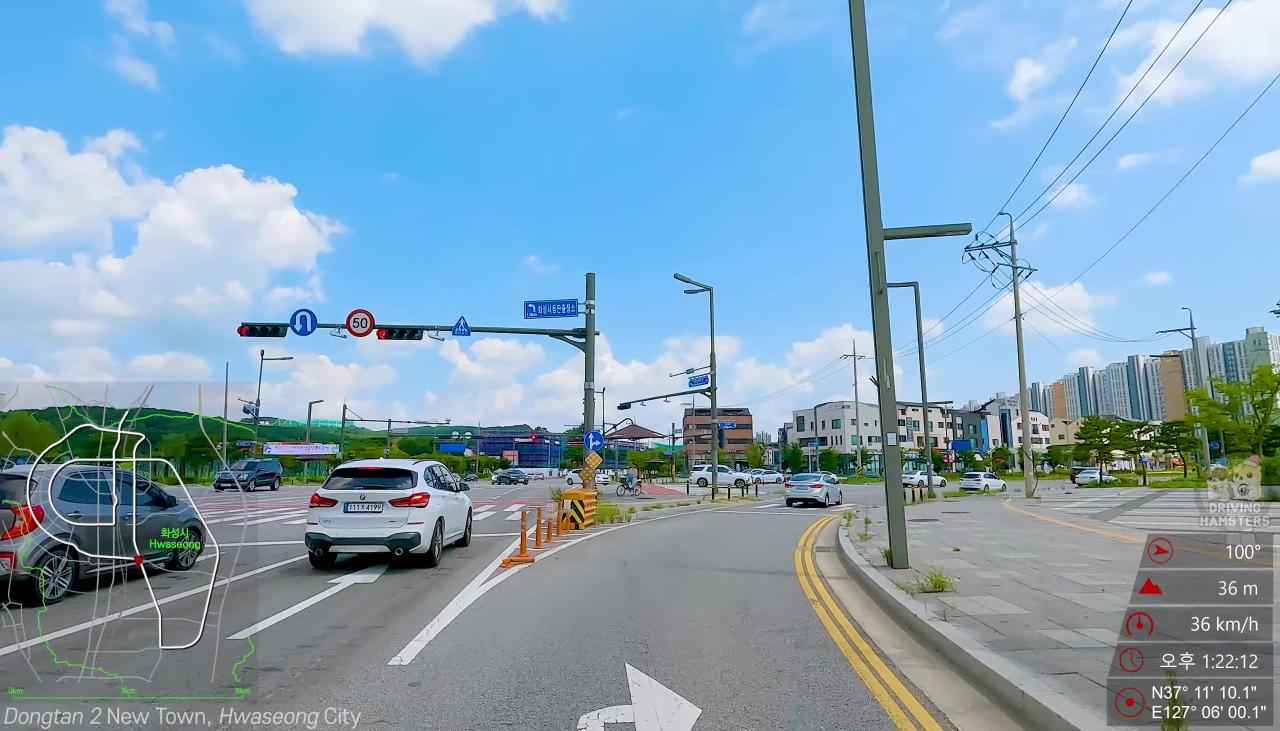Red Light: (376, 328, 387, 340), (238, 325, 248, 337)
